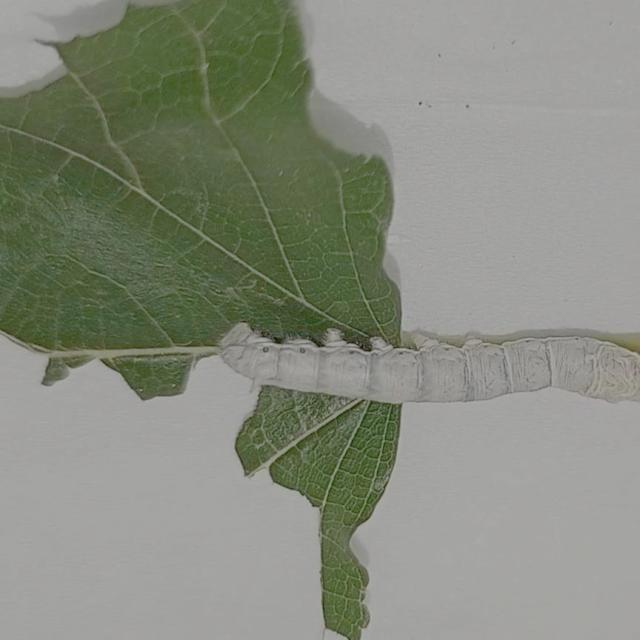Healthy: (197, 306, 640, 420)
